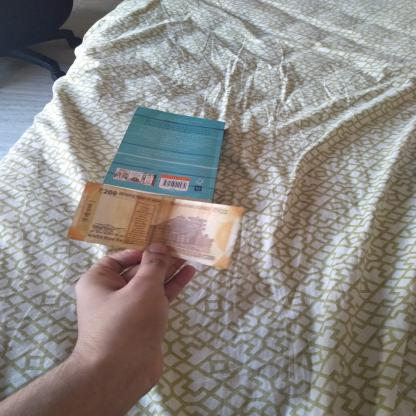New200Back: (72, 184, 234, 262)
